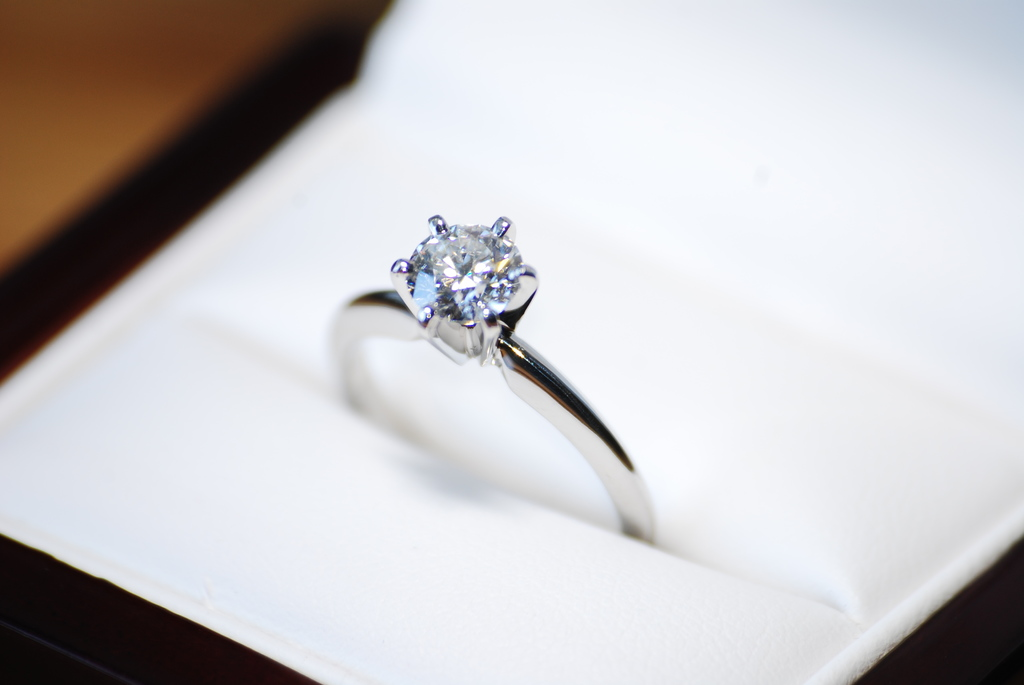person: (411, 211, 531, 367)
